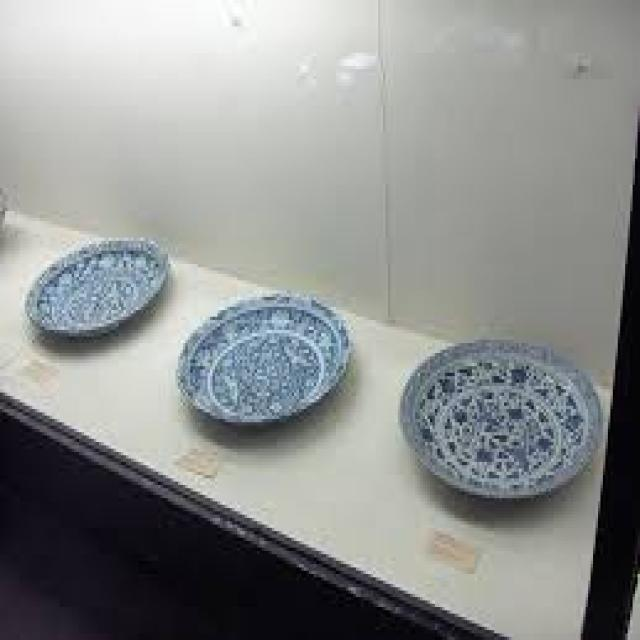Plate: (399, 317, 608, 533), (182, 268, 360, 438), (24, 229, 170, 356)
